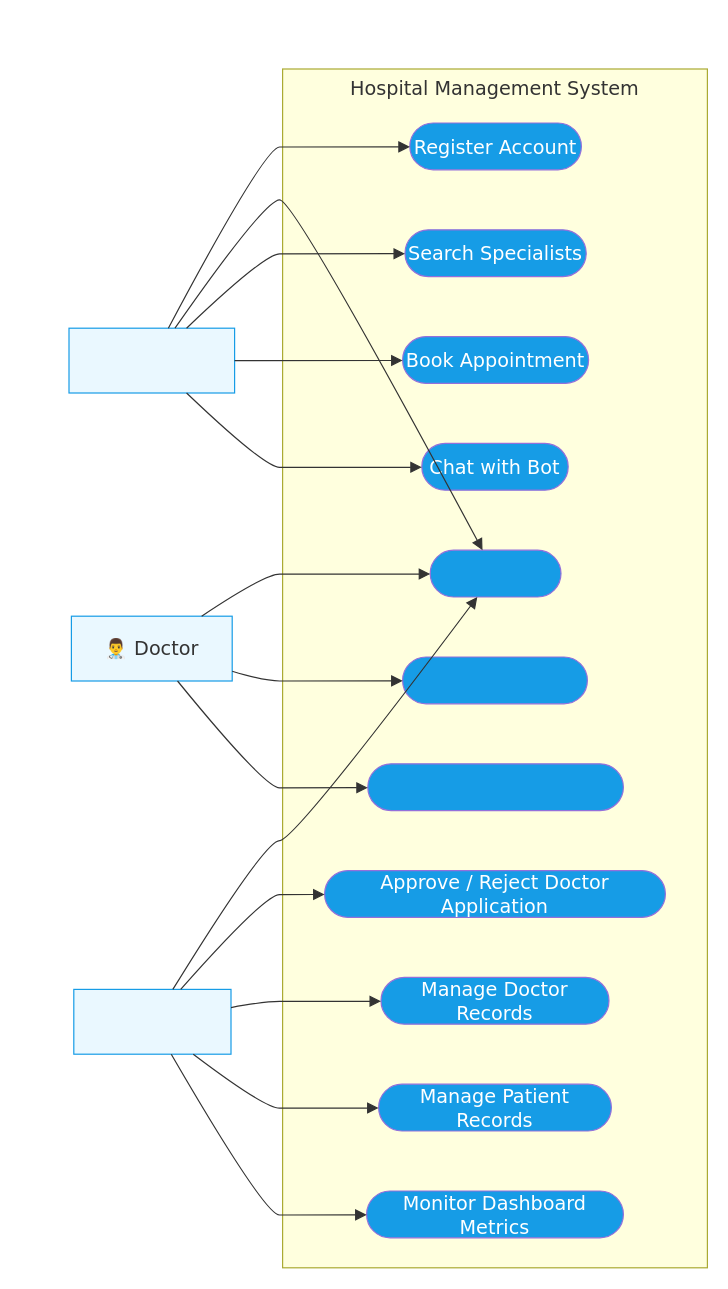
The diagram is 728 pixels wide and 1289 high, and some of its shapes have lost their labels. The shapes that lost their labels are listed below. From the top down, each one's box as (x1, y1, x2, y2) in pixels, then its label:
(68, 327, 235, 393): 👤 Patient
(429, 549, 561, 597): Login Portal
(401, 656, 587, 704): Set Working Hours
(367, 763, 623, 811): Record Consultation Notes
(73, 988, 231, 1054): 👨‍💼 Admin
